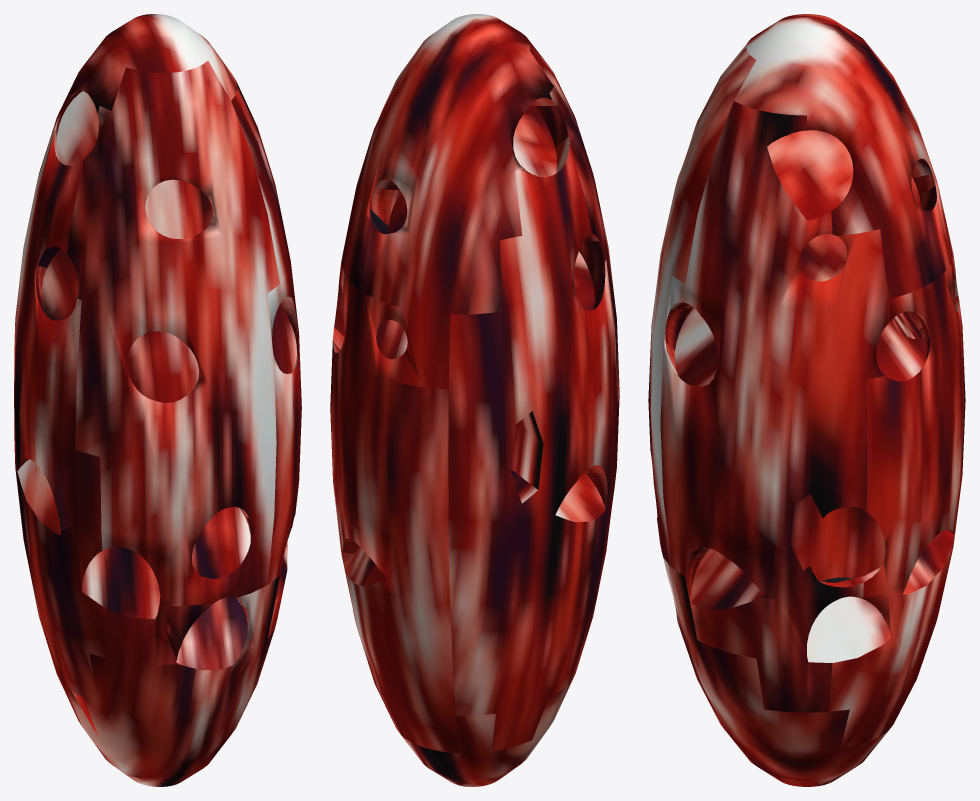
The model's file is tohum1.fbx.
3 renders of one model, left to right at view 1: azimuth 30°, elevation 25°; view 2: azimuth 150°, elevation 25°; view 3: azimuth 270°, elevation 25°, orthographic.
Parts seen in each view (by area): view 1: tohum1; view 2: tohum1; view 3: tohum1.
Part boxes in pixels (box(x1,y1,x2,y2)): tohum1: box(14, 14, 301, 786); tohum1: box(330, 14, 619, 786); tohum1: box(648, 14, 965, 786).
Bounding box in the file's own units: 559 × 1679 × 631.
